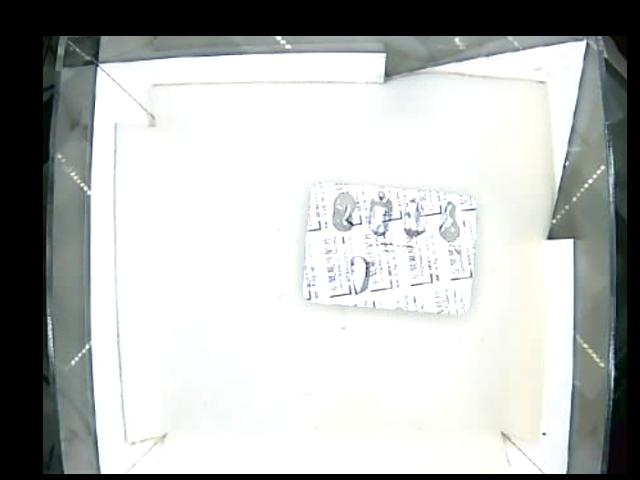Medicine: (300, 182, 476, 317)
